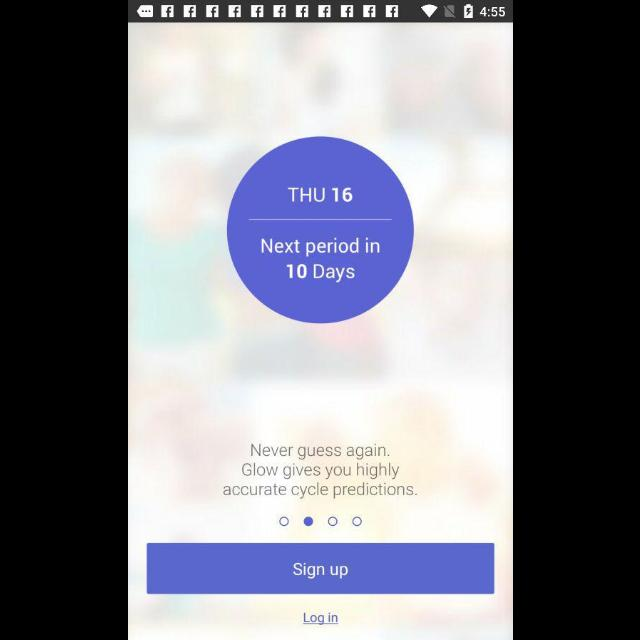image: (226, 136, 414, 324)
pageindicator: (278, 516, 362, 528)
text: (222, 443, 418, 499), (302, 612, 338, 626)
textbutton: (146, 544, 494, 594)
uppertaskbar: (128, 1, 512, 23)
